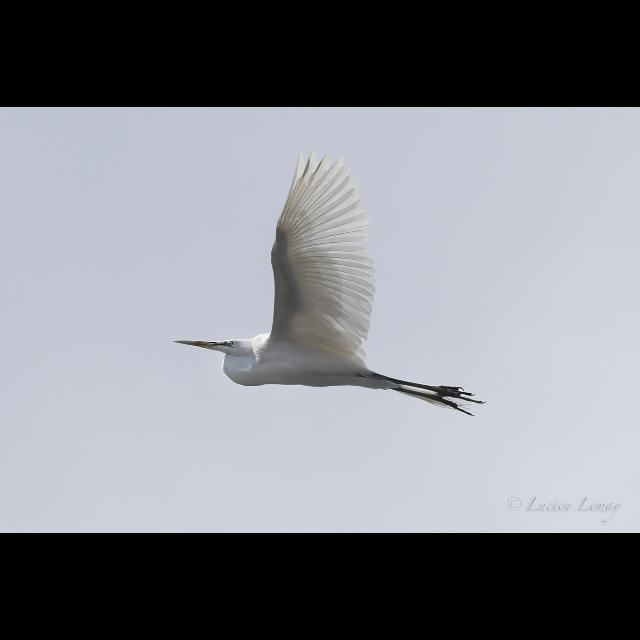egret: (171, 148, 483, 416)
